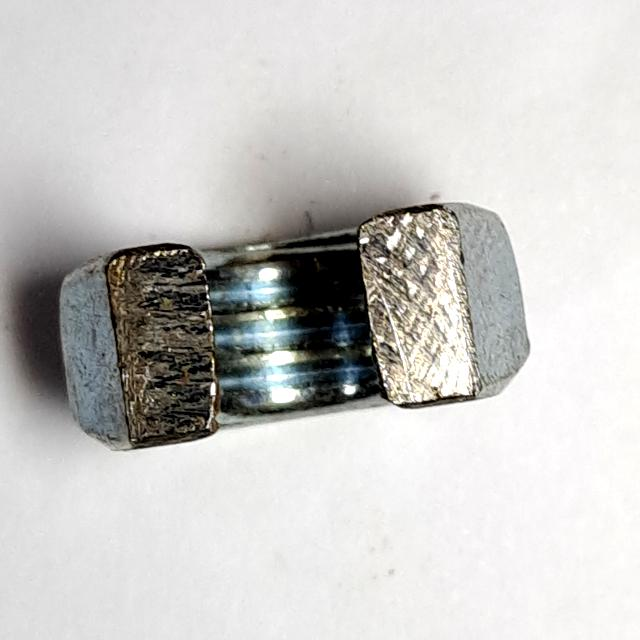Side-Fracture: (47, 188, 538, 469)
